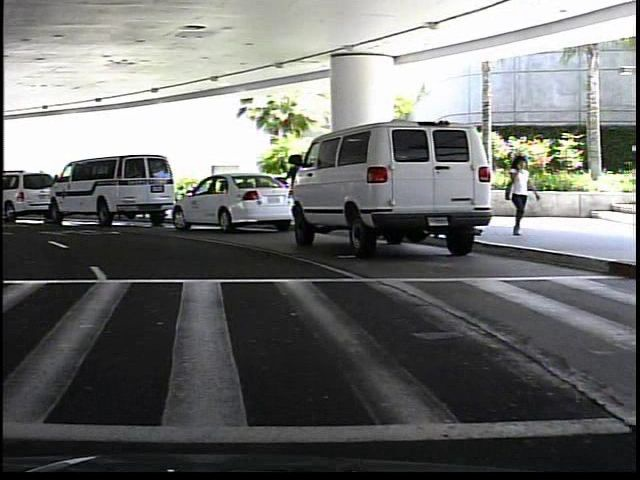person: (500, 149, 537, 241)
